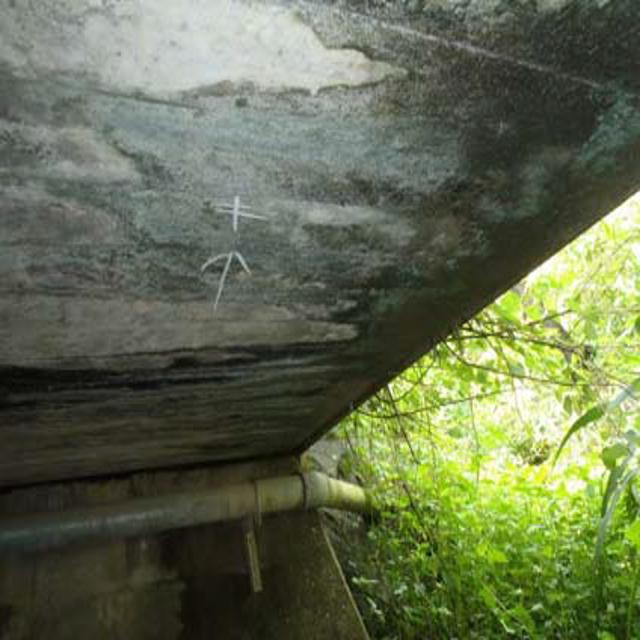leakage: (19, 310, 367, 497)
